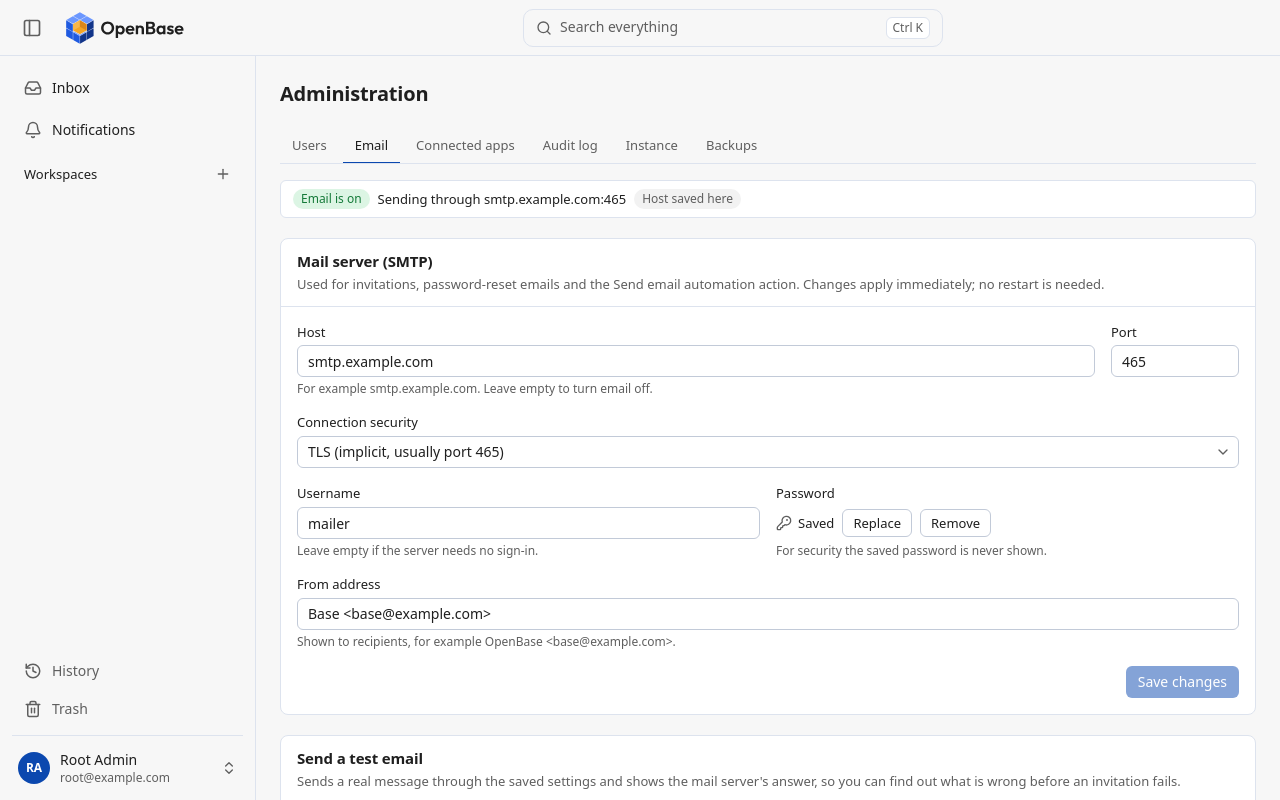
Test case: admin email tab › validates the port and warns about unencrypted credentials
Replace the text in the field labelled "Port" with "99999" at (1175, 361), box x1=1111 y1=345 x2=1239 y2=377
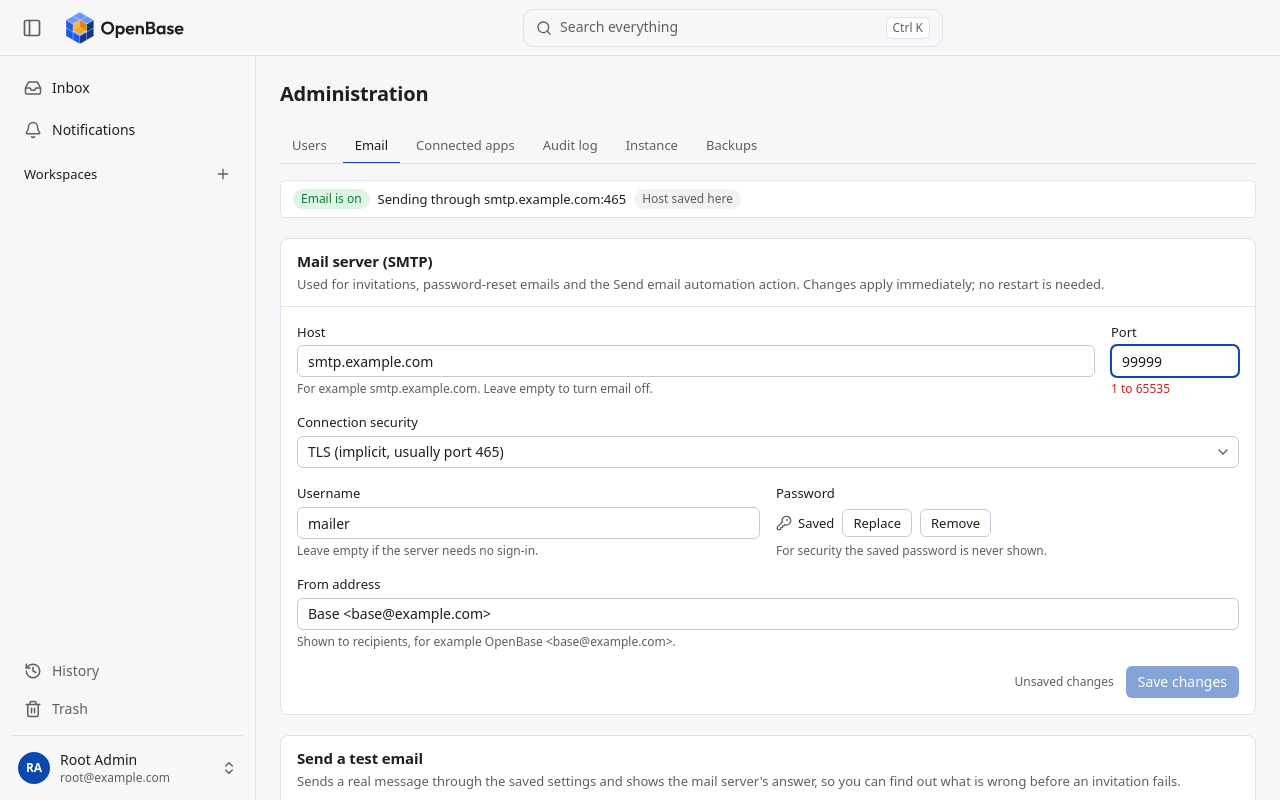
Expected: the button "Save changes" is disabled, x1=1126 y1=666 x2=1239 y2=698
Now the text "1 to 65535" is shown, box x1=1111 y1=380 x2=1170 y2=397
Replace the text in the field labelled "Port" with "25" at (1175, 361), box x1=1111 y1=345 x2=1239 y2=377
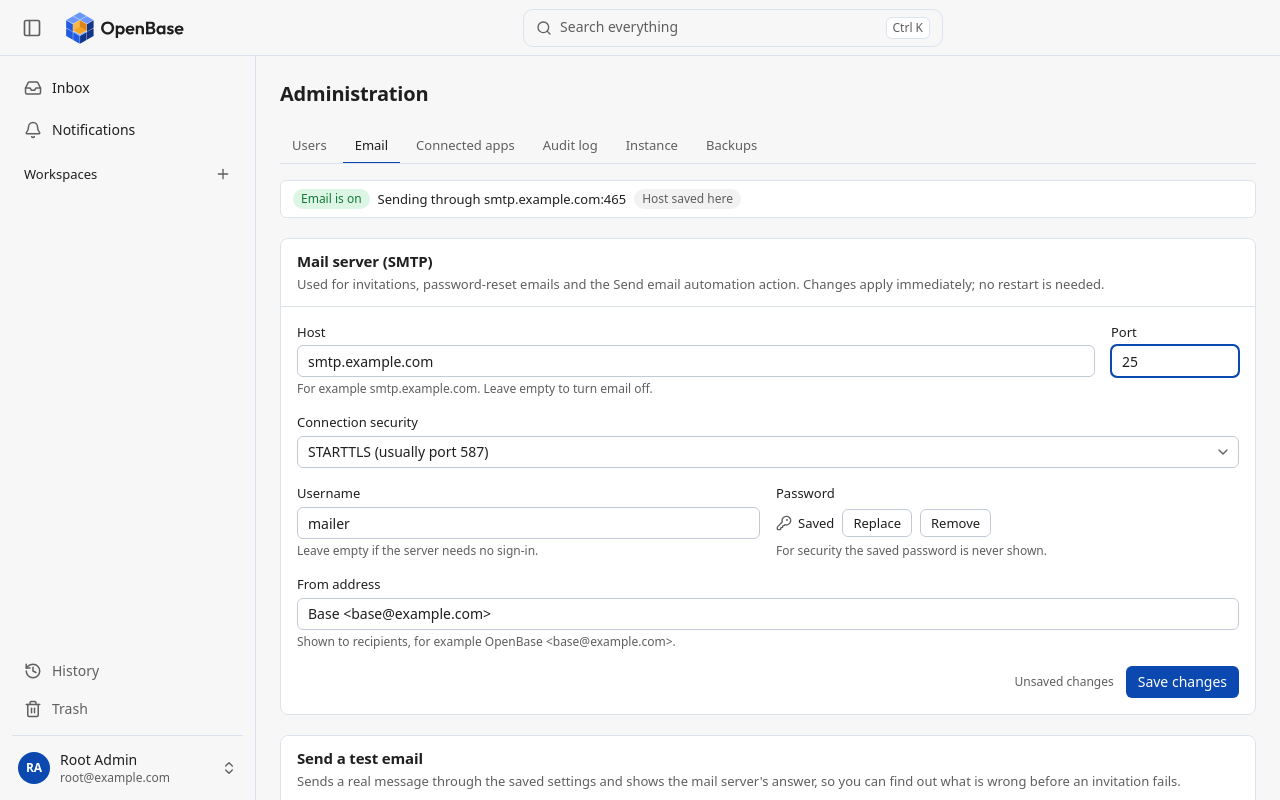
Expected: the text "1 to 65535" is not shown
Expected: the text "sent unencrypted" is not shown
Select "None (a relay on this machine or network only)" in the dropdown labelled "Connection security" at (768, 452), box x1=297 y1=436 x2=1239 y2=468
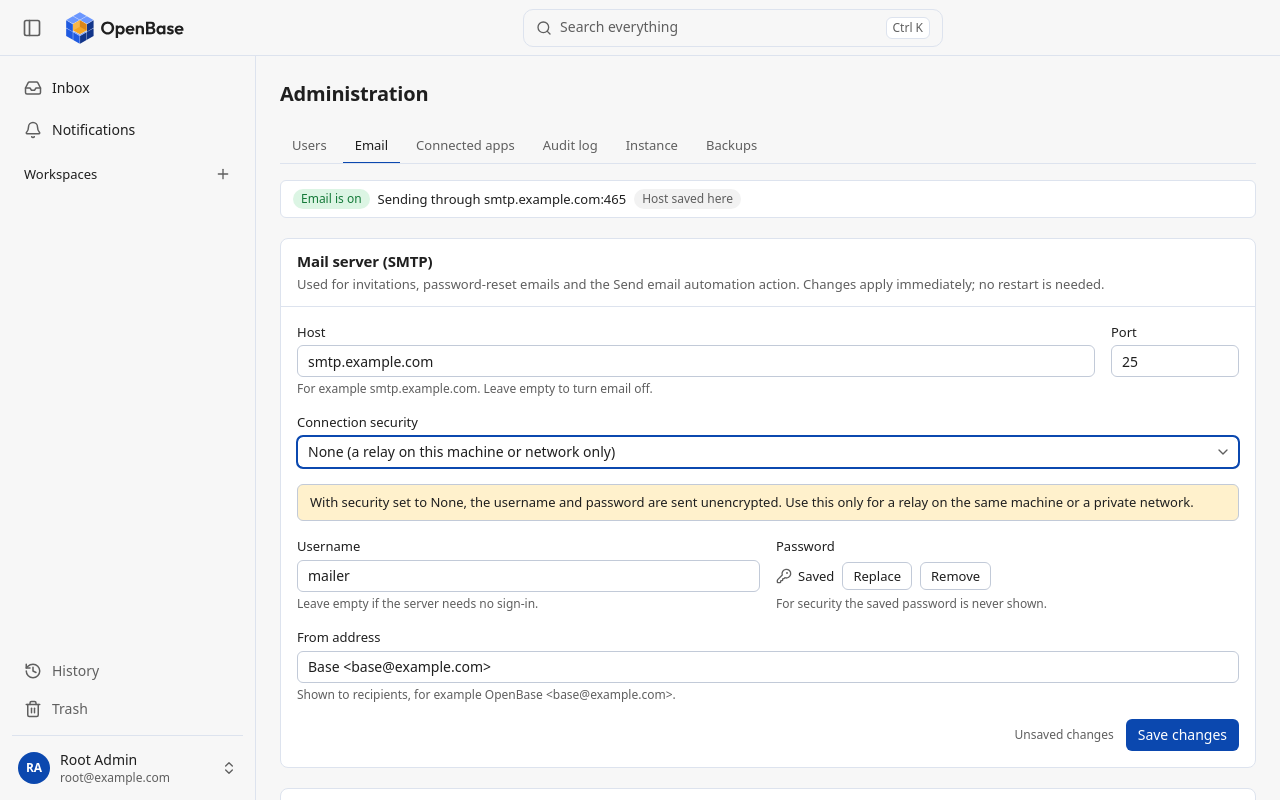
Now the text "sent unencrypted" is shown, box x1=310 y1=493 x2=1194 y2=511
